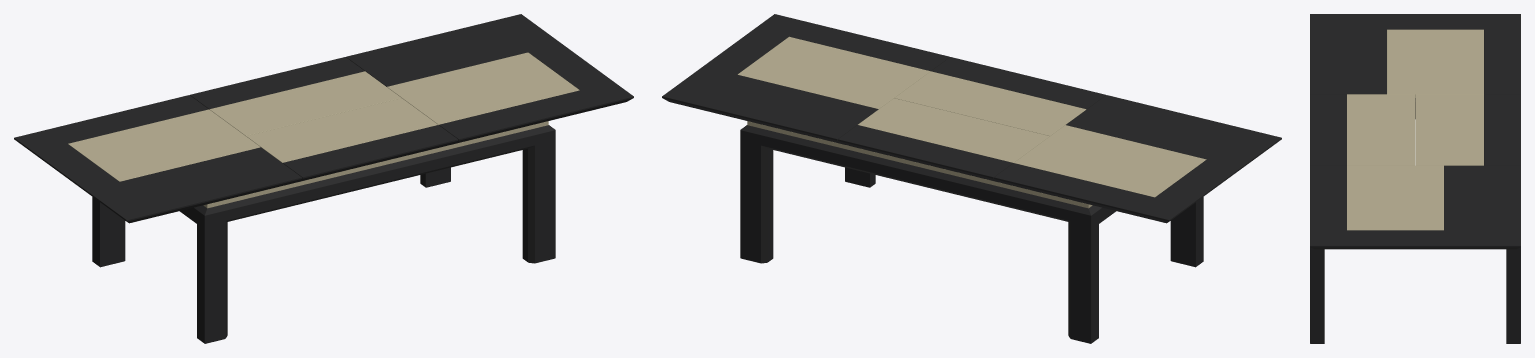
The model's file is Modern_Table2.obj.
3 renders of one model, left to right at view 1: azimuth 30°, elevation 25°; view 2: azimuth 150°, elevation 25°; view 3: azimuth 270°, elevation 25°, orthographic. The views are drawn at different scales.
Visible parts, largest first — view 1: default_1_1, default_1_2; view 2: default_1_1, default_1_2; view 3: default_1_1, default_1_2.
Boxes of the visible parts, box(x1,y1,x2,y2) form: default_1_1: box(14, 14, 633, 343); default_1_2: box(68, 52, 579, 208); default_1_1: box(662, 14, 1281, 343); default_1_2: box(738, 36, 1206, 208); default_1_1: box(1310, 14, 1520, 343); default_1_2: box(1347, 29, 1483, 230).
Size of the model in its own units: 260 by 71.2 by 100.
